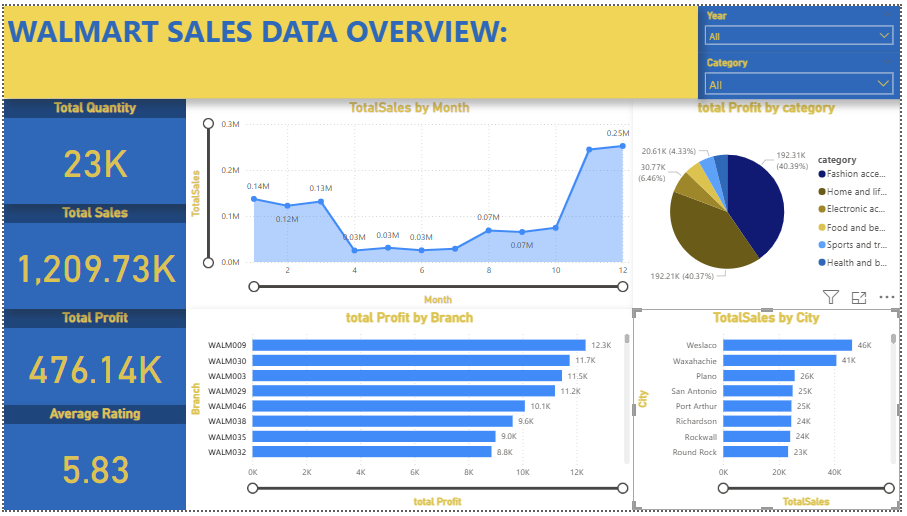

The dashboard page shown, as its layout file describes it:
{"tool":"powerbi","page":{"name":"Page 1","canvas":[1280,720],"ordinal":0},"visuals":[{"type":"card","title":"Total Profit","fields":{"Values":["Walmart_clean_data.total Profit"]},"box":[0,432.2,260,137.8],"z":0},{"type":"card","title":"Total Sales ","fields":{"Values":["Walmart_clean_data.TotalSales"]},"box":[0,282.2,260,150],"z":1000},{"type":"card","title":"Total Quantity","fields":{"Values":["Walmart_clean_data.Total Quantity"]},"box":[0,132.2,260,150],"z":2000},{"type":"card","title":"Average Rating","fields":{"Values":["Walmart_clean_data.Average Rating"]},"box":[0,570,260,150],"z":3000},{"type":"lineChart","fields":{"Y":["Walmart_clean_data.TotalSales"],"Category":["Walmart_clean_data.Month"]},"box":[260,132.2,638.9,300],"z":4000},{"type":"barChart","fields":{"Category":["Walmart_clean_data.City"],"Y":["Walmart_clean_data.TotalSales"]},"box":[898.9,432.2,381.1,287.8],"z":5000},{"type":"barChart","fields":{"Category":["Walmart_clean_data.Branch"],"Y":["Walmart_clean_data.total Profit"]},"box":[260,432.2,638.9,287.8],"z":6000},{"type":"pieChart","fields":{"Category":["Walmart_clean_data.category"],"Y":["Walmart_clean_data.total Profit"]},"box":[898.9,132.2,381.1,300],"z":7000},{"type":"slicer","fields":{"Values":["Walmart_clean_data.Year"]},"box":[991.1,0,288.9,66.7],"z":7001},{"type":"slicer","fields":{"Values":["Walmart_clean_data.category"]},"box":[991.1,66.7,288.9,65.6],"z":7002},{"type":"textbox","box":[0,0,991.1,132.2],"z":7003}]}

Visuals, with their boxes in screenshot pixels (x1, y1, x2, y2), scaled from the page's 1280x720 canvas onto the 907x516 screenshot:
"Total Profit" card: {"left": 0, "top": 310, "right": 184, "bottom": 408}
"Total Sales " card: {"left": 0, "top": 202, "right": 184, "bottom": 310}
"Total Quantity" card: {"left": 0, "top": 95, "right": 184, "bottom": 202}
"Average Rating" card: {"left": 0, "top": 408, "right": 184, "bottom": 515}
lineChart - Walmart_clean_data.TotalSales x Walmart_clean_data.Month: {"left": 184, "top": 95, "right": 637, "bottom": 310}
barChart - Walmart_clean_data.City x Walmart_clean_data.TotalSales: {"left": 637, "top": 310, "right": 906, "bottom": 515}
barChart - Walmart_clean_data.Branch x Walmart_clean_data.total Profit: {"left": 184, "top": 310, "right": 637, "bottom": 515}
pieChart - Walmart_clean_data.category x Walmart_clean_data.total Profit: {"left": 637, "top": 95, "right": 906, "bottom": 310}
slicer - Walmart_clean_data.Year: {"left": 702, "top": 0, "right": 906, "bottom": 48}
slicer - Walmart_clean_data.category: {"left": 702, "top": 48, "right": 906, "bottom": 95}
textbox: {"left": 0, "top": 0, "right": 702, "bottom": 95}
